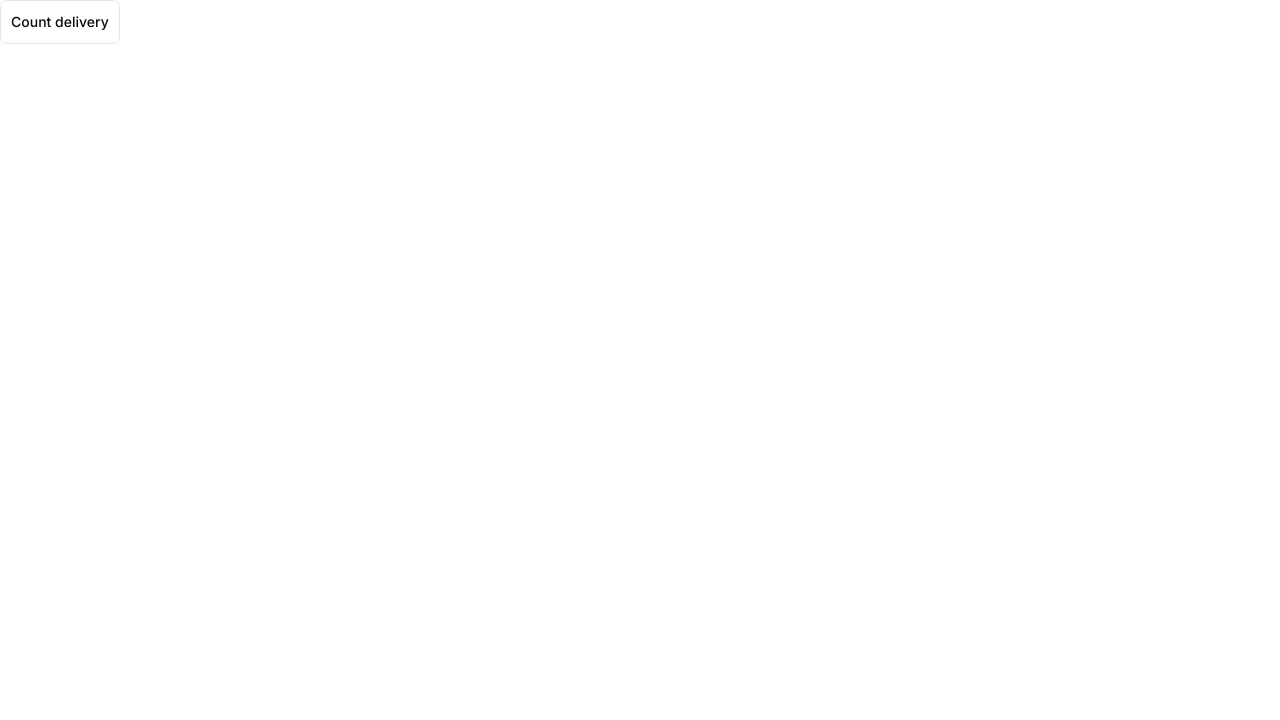
Test case: dispatch receive control › rechecks the deadline when confirming a count left open past its deadline
Click the button "Count delivery" at coordinates (60, 22), box [0, 0, 120, 44]
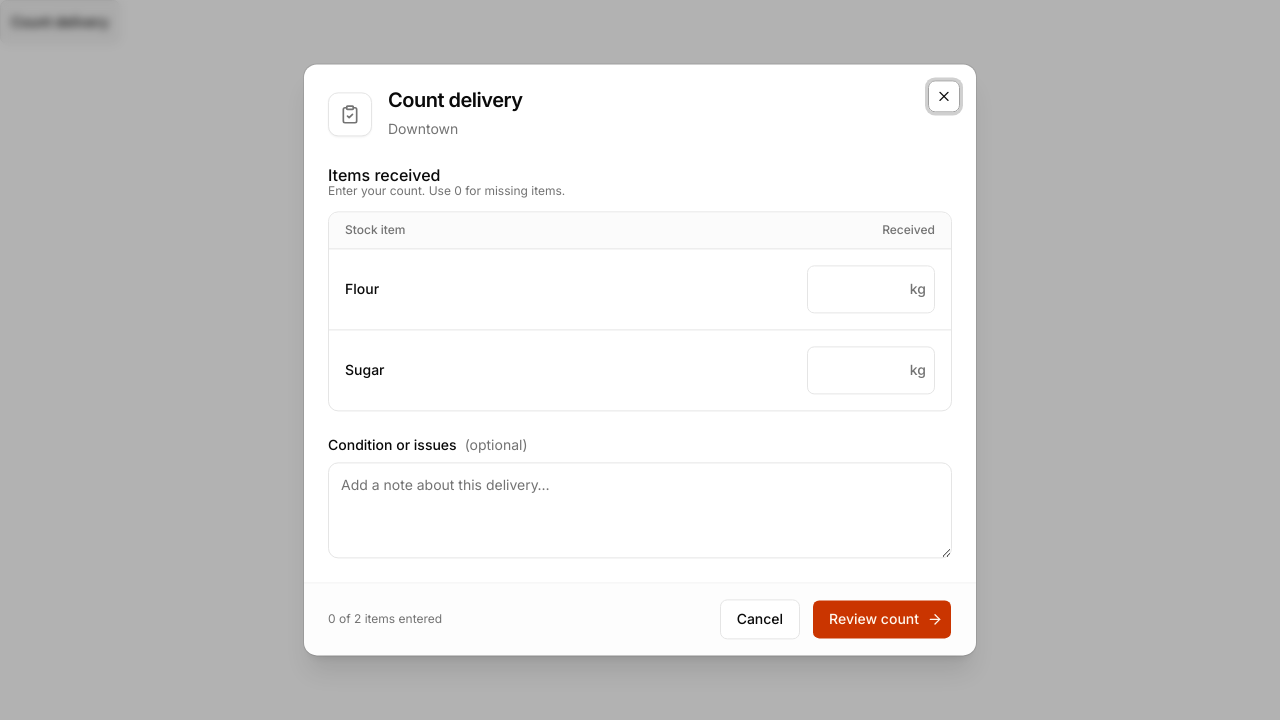
Type "1" into the field named "Flour counted (kg)" at coordinates (859, 289), box [808, 266, 910, 312]
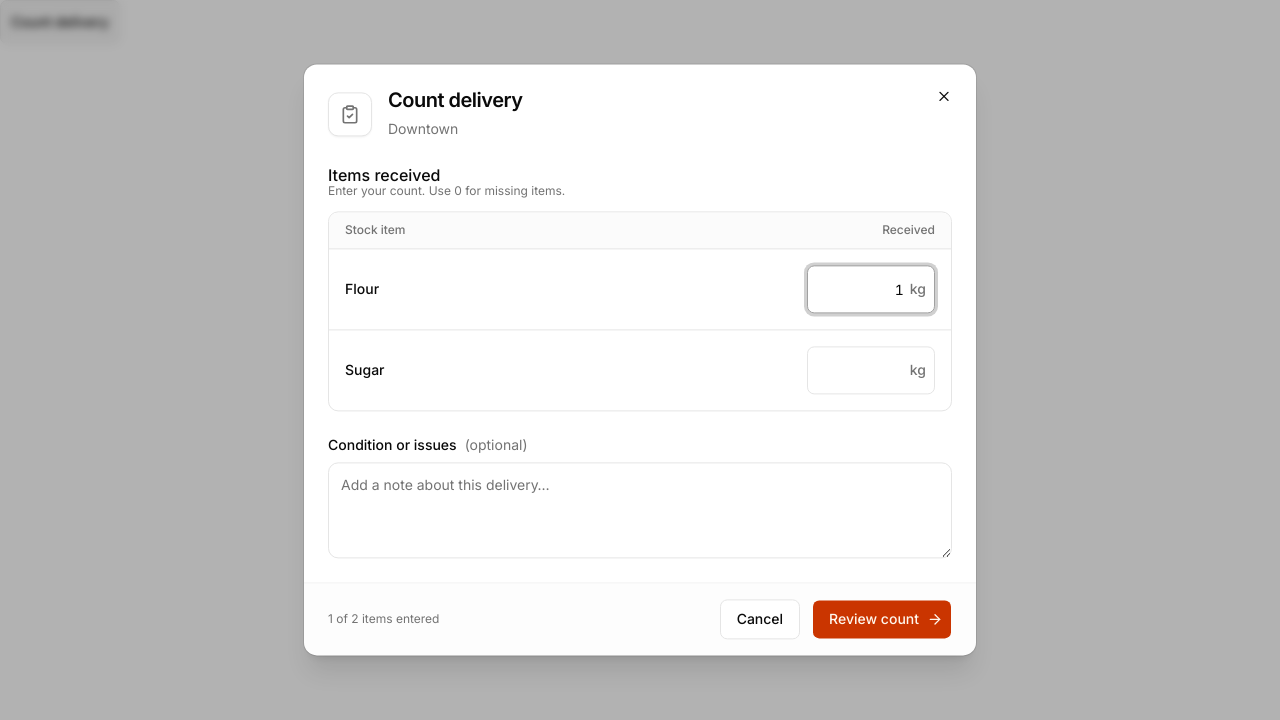
Type "2" into the field named "Sugar counted (kg)" at coordinates (859, 370), box [808, 347, 910, 393]
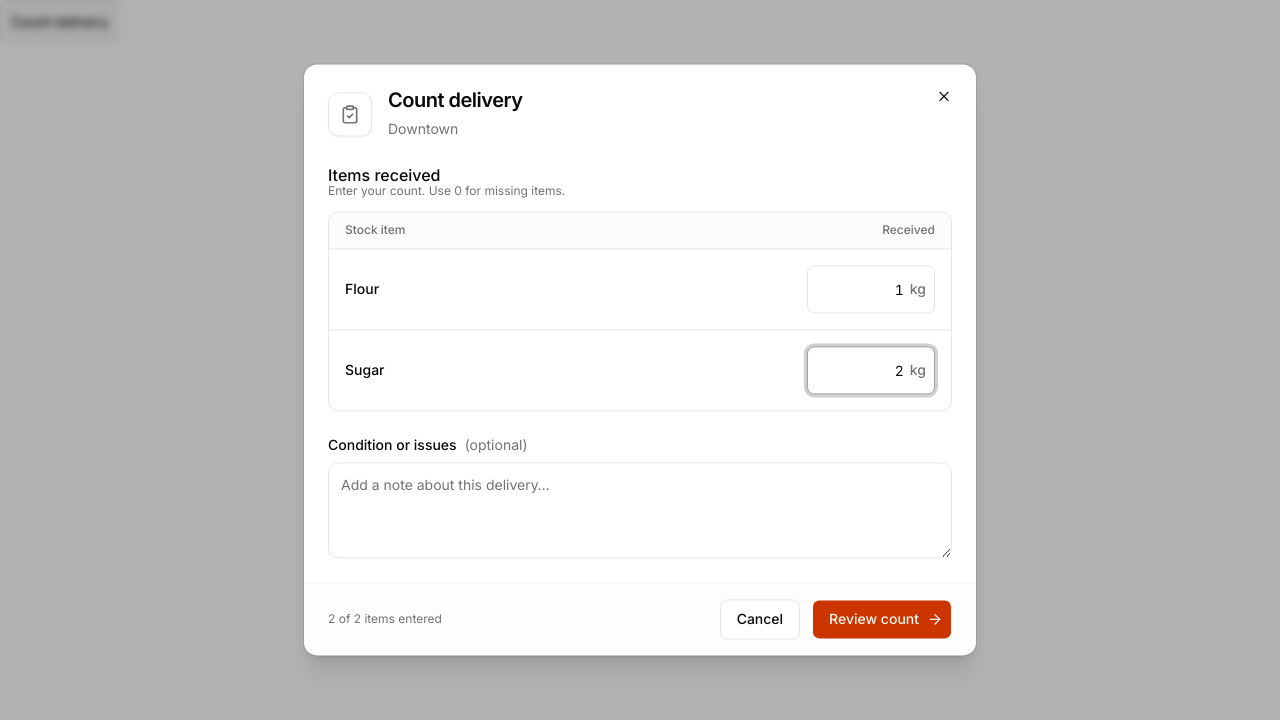
Click the button "Review count" at coordinates (882, 620), box [812, 600, 952, 640]
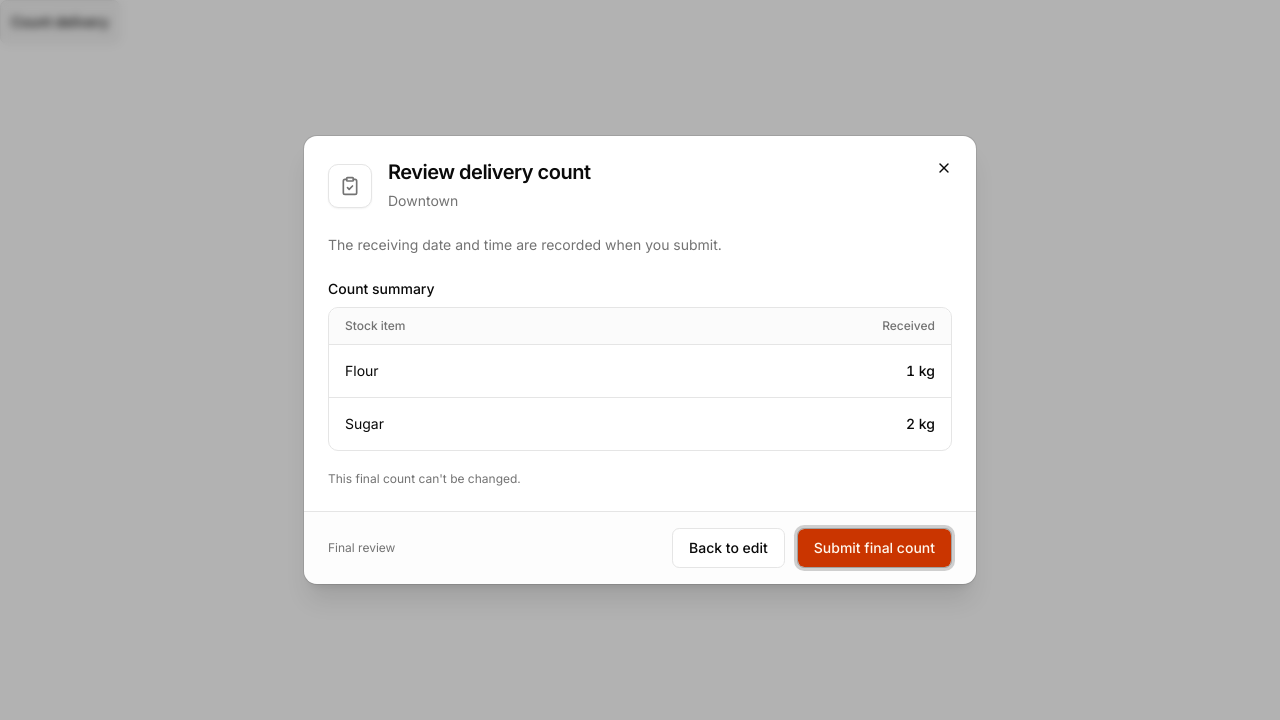
Click the button "Submit final count" at coordinates (874, 548), box [797, 528, 952, 568]
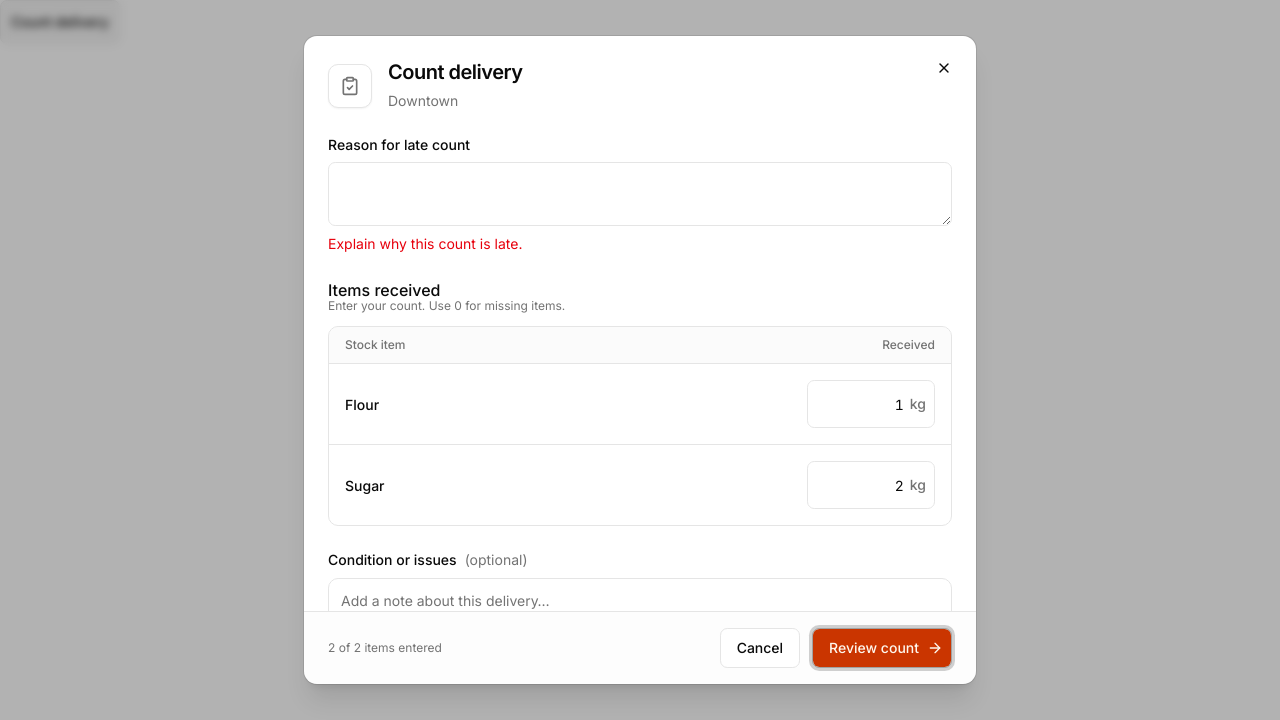
Result: the text box labelled "Reason for late count" is shown at [328, 162, 952, 226]
Result: the text "Explain why this count is late." is shown at [328, 235, 522, 252]
